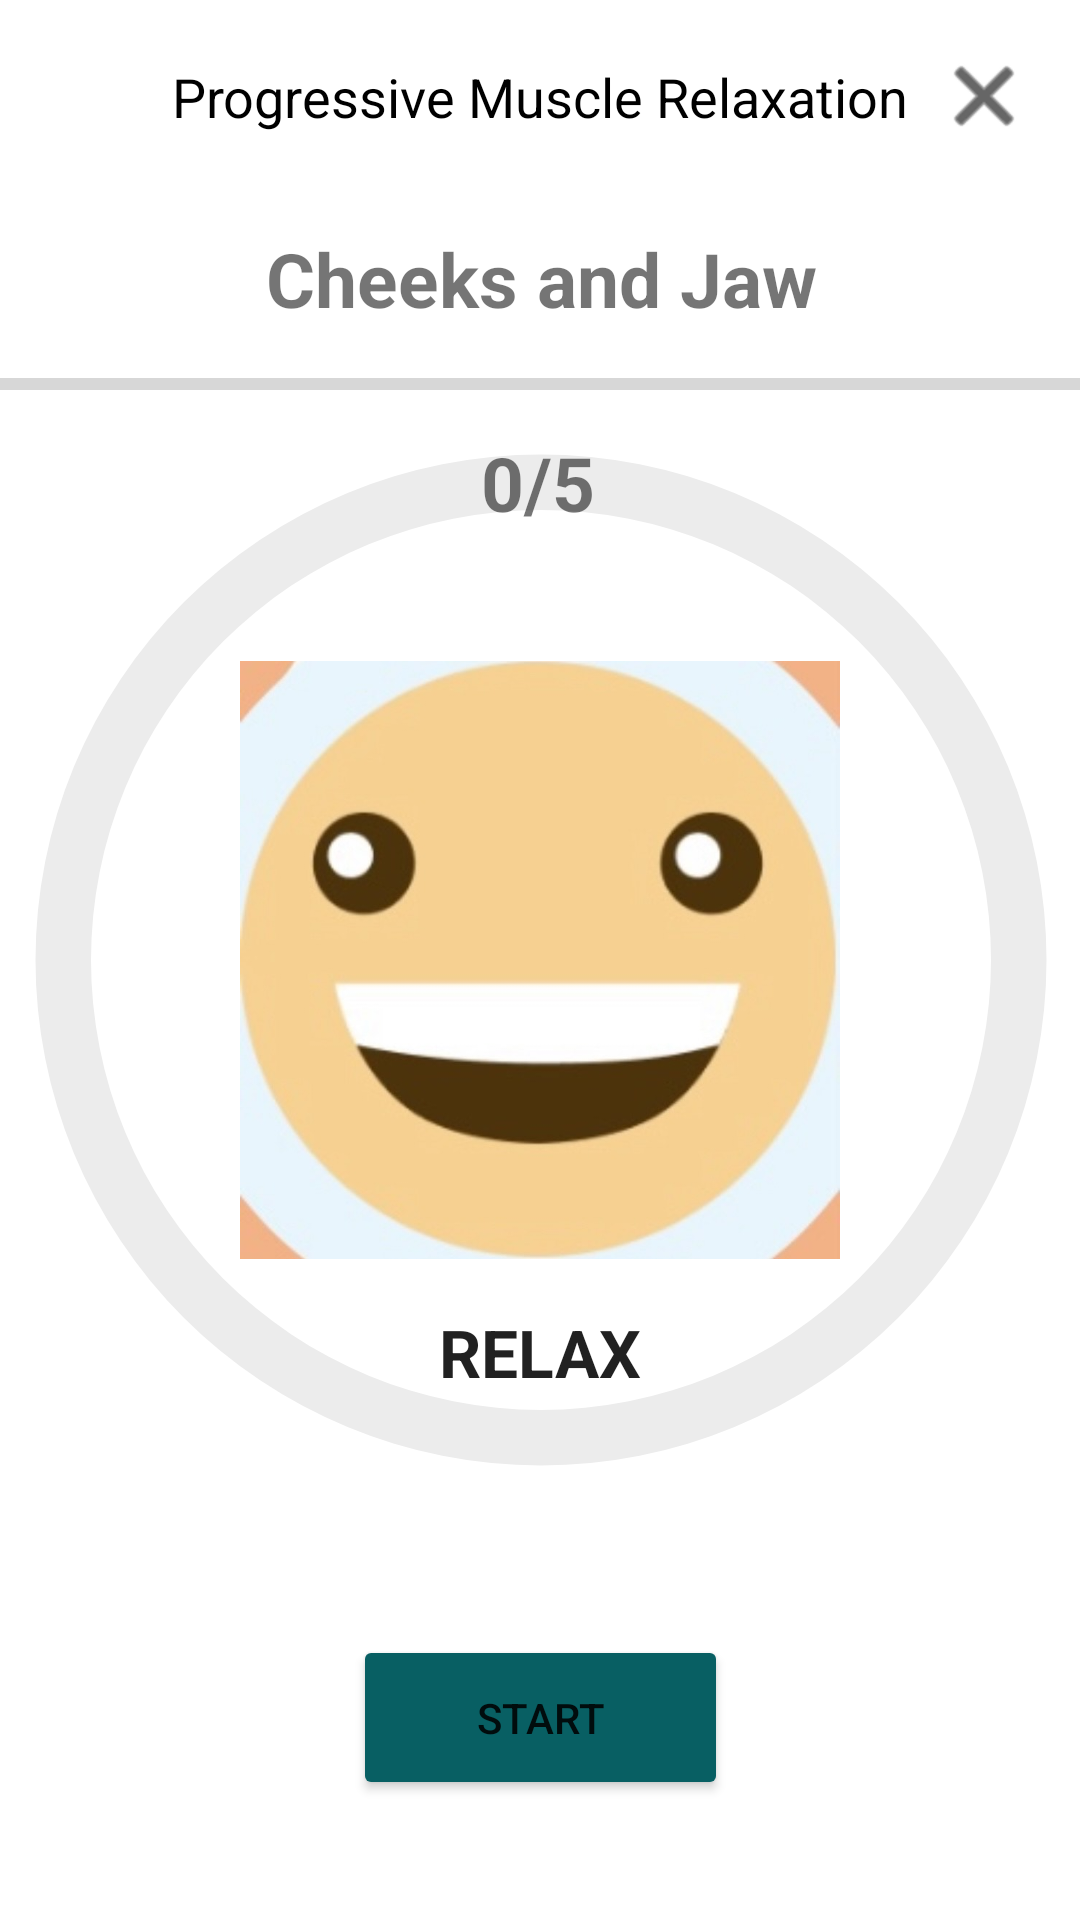

Screen size 1080*1920. Icon name, then its box in pixels as (x1, y1, x2, y2):
close: (954, 66, 1014, 126)
